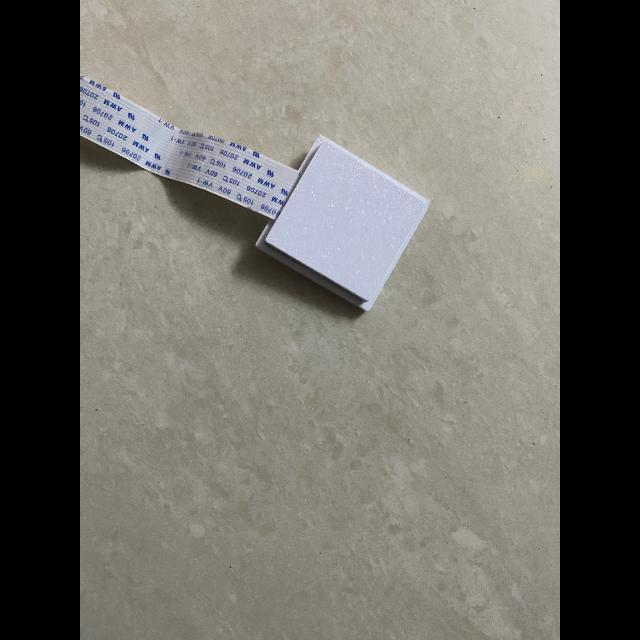RASPBERY PI CAM ENCLOSURE: (254, 134, 430, 312)
